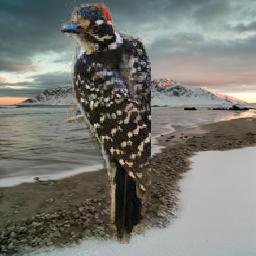Woodpecker: (61, 0, 151, 244)
